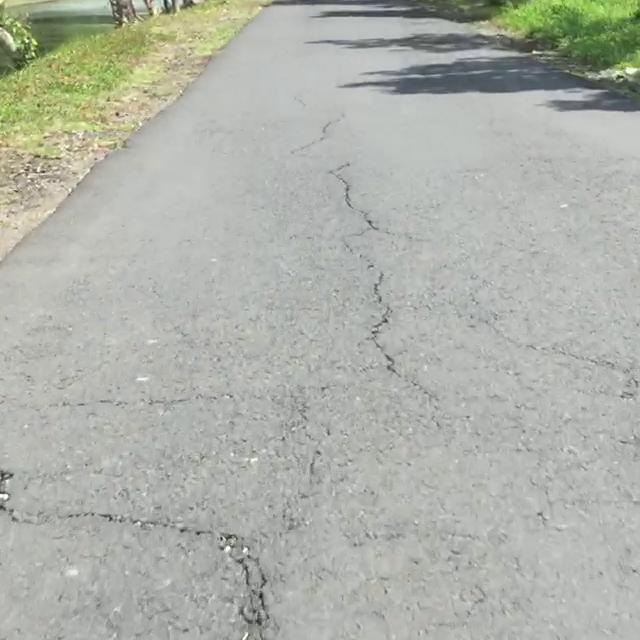retak_memanjang: (0, 491, 292, 640), (316, 100, 421, 393), (0, 397, 40, 567)
